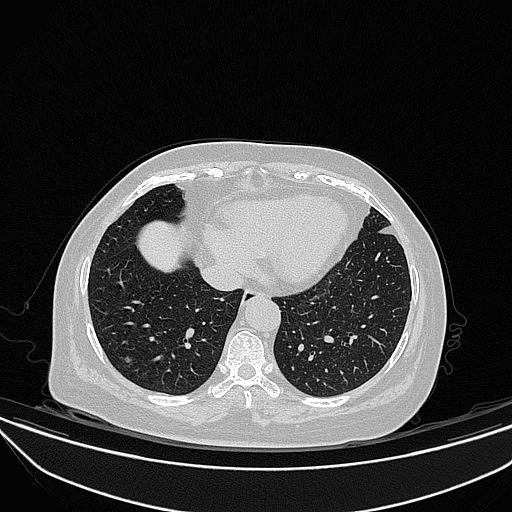nodule: (123, 355, 132, 363)
